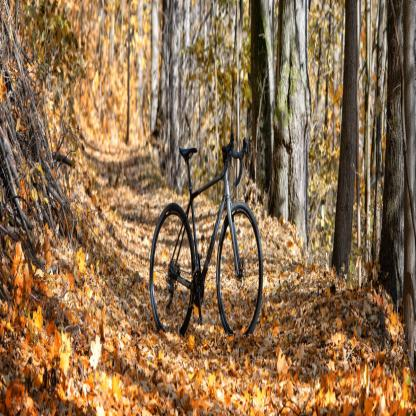Bike: (147, 136, 263, 337)
